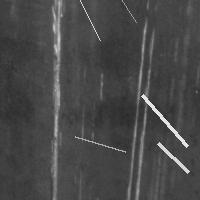scratches: (127, 1, 154, 200), (44, 2, 68, 199), (137, 90, 192, 151), (53, 0, 105, 45), (78, 0, 141, 27), (153, 138, 193, 177), (70, 131, 130, 156)
